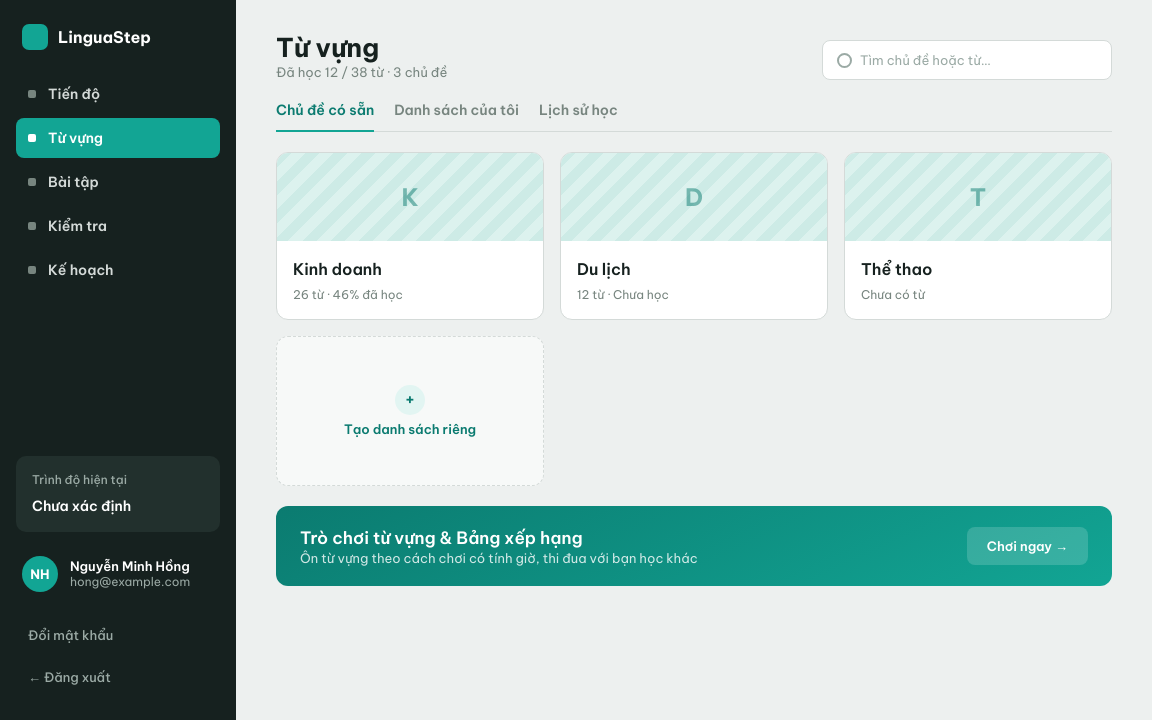
Scenario: topics page › asks for two characters before searching words, and says when nothing matches
The width and height of the screenshot is (1152, 720).
Expected: the link "K Kinh doanh 26 từ · 46% đã học" is shown, [276,152,544,320]
Type "x" into the search field labelled "Tìm chủ đề hoặc từ" at x=978, y=60, box [860,52,1097,68]
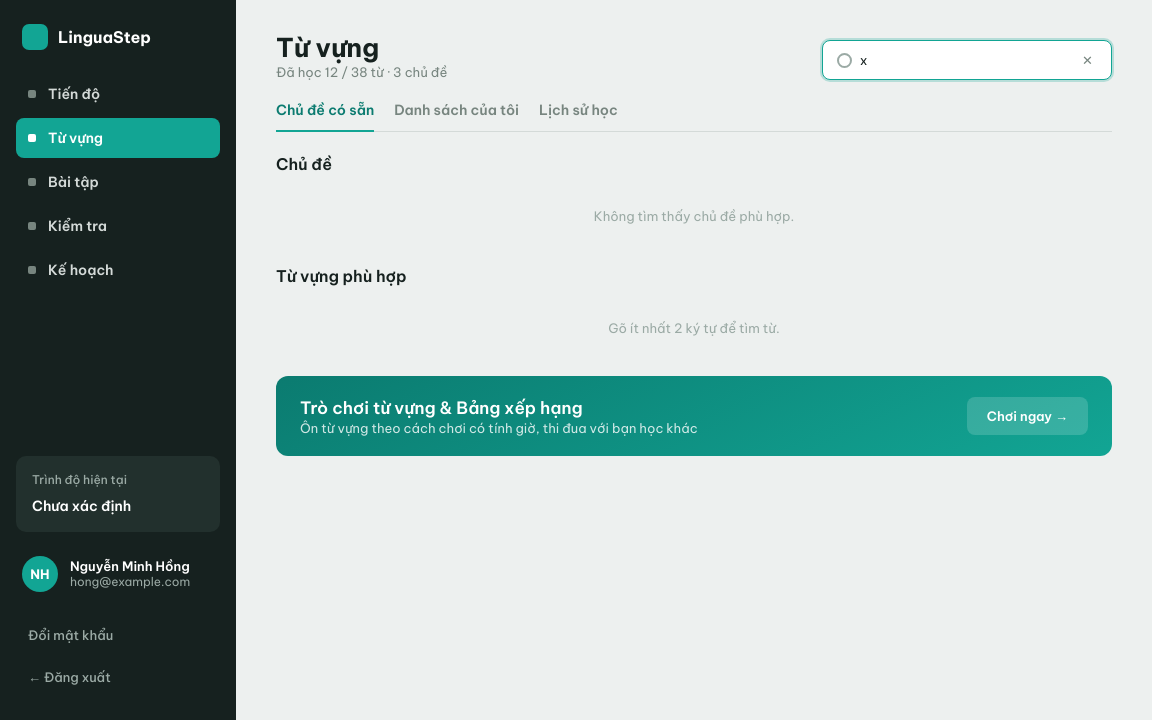
Expected: the text "Gõ ít nhất 2 ký tự để tìm từ." is shown, [608,320,780,336]
Expected: the text "Không tìm thấy chủ đề phù hợp." is shown, [594,208,794,224]
Type "yz" into the search field named "Tìm chủ đề hoặc từ" at x=965, y=60, box [860,52,1070,68]
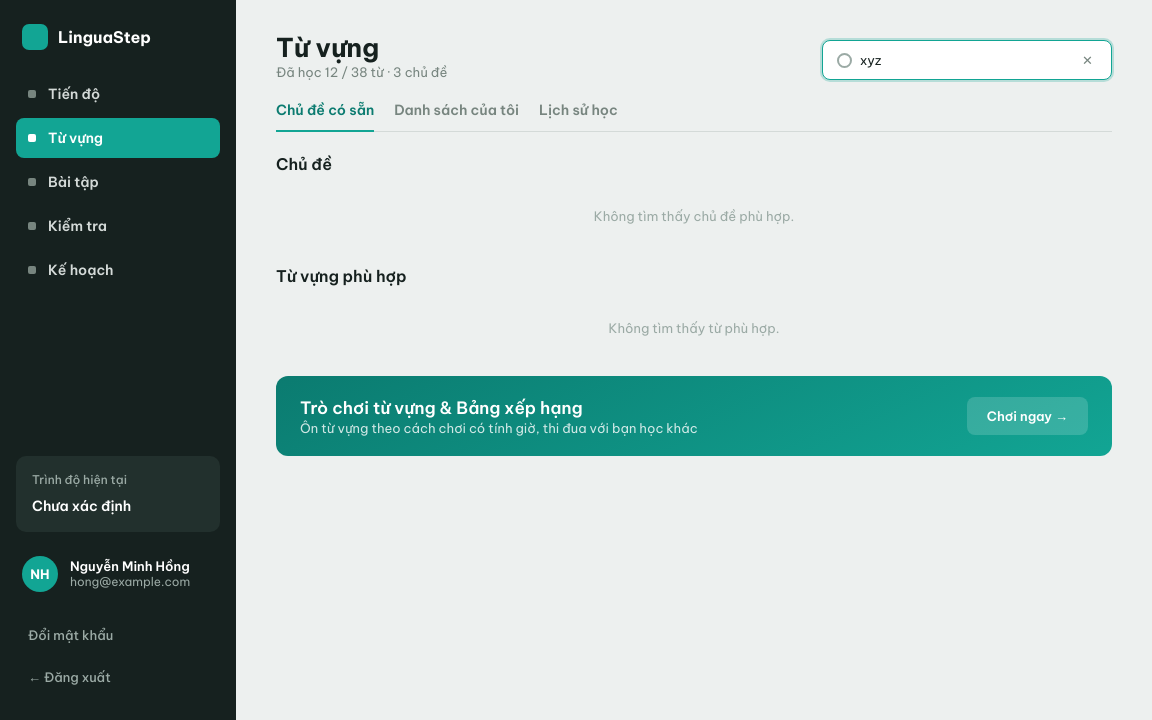
Expected: the text "Không tìm thấy từ phù hợp." is shown, [609,320,780,336]
